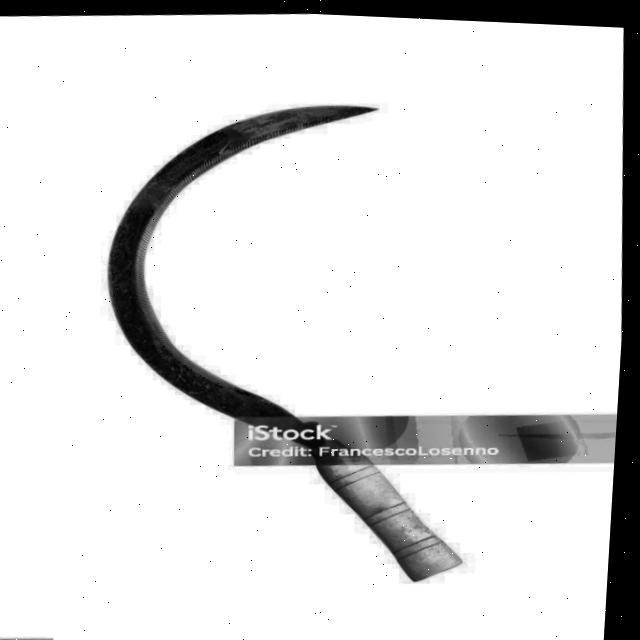celurit: (92, 95, 460, 606)
